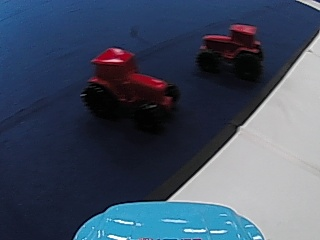tractor: (82, 43, 178, 126), (197, 21, 264, 79)
